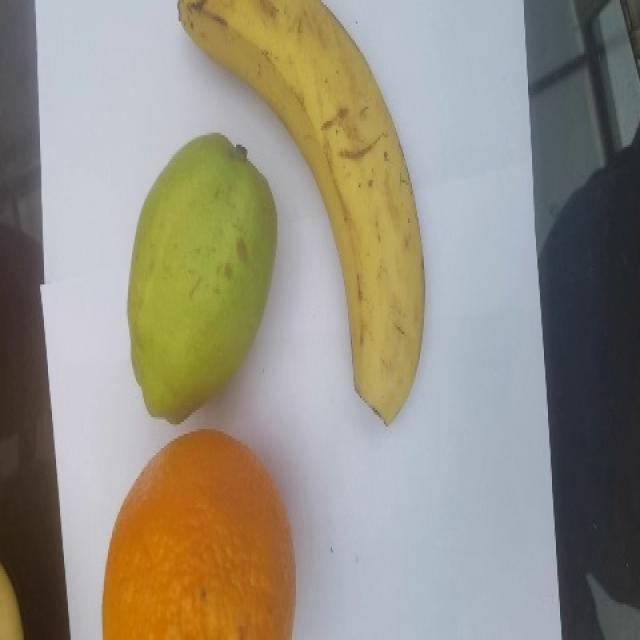Banana: (176, 0, 426, 426)
Orange: (101, 428, 296, 639)
